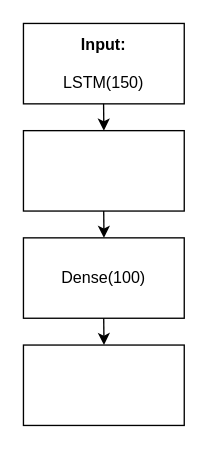
This 208x449 diagram has some shape labels left out. Here are the shapes that lost their labels. From the top down, the centre of each, then its label:
At (103,170): "LSTM(150)".
At (103,384): "Output: Dense(1)".
